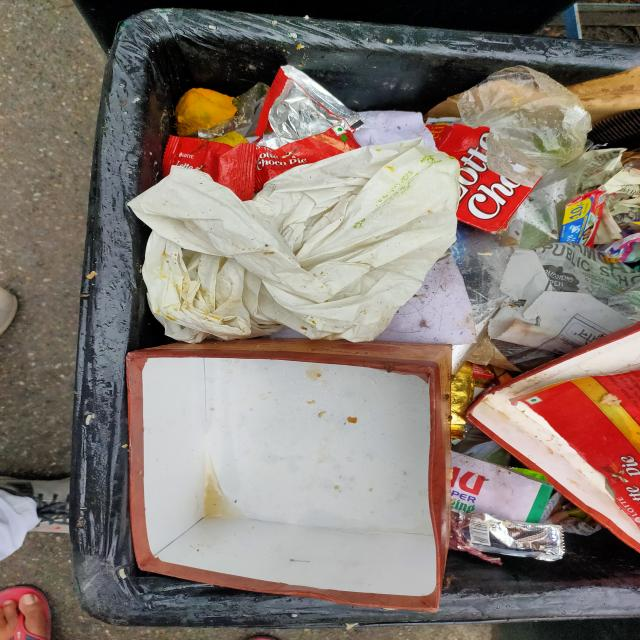B3: (125, 345, 448, 610), (129, 138, 458, 344), (132, 186, 416, 336), (466, 322, 640, 528), (161, 64, 370, 182), (488, 65, 576, 169), (465, 137, 534, 236), (469, 460, 557, 526), (473, 516, 571, 563)
